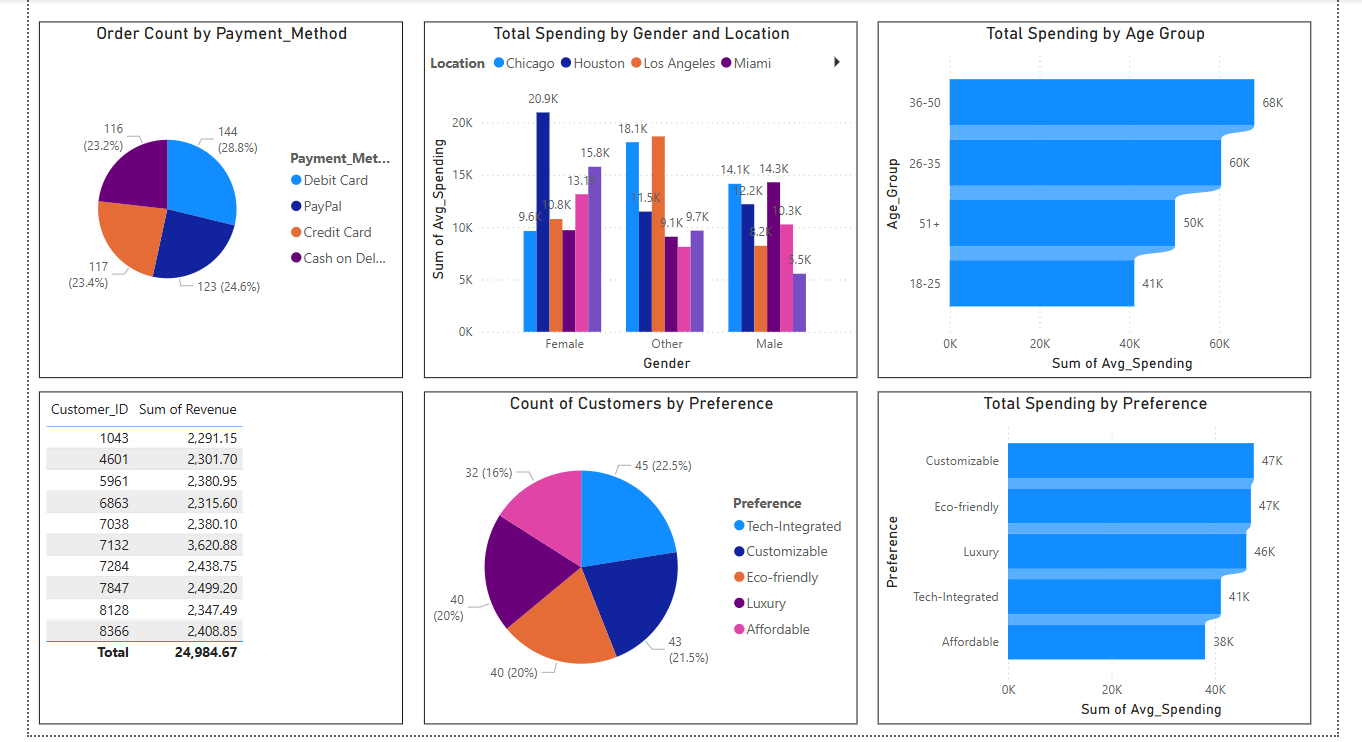

The page's visual inventory and layout, read from the dashboard file:
{"tool":"powerbi","page":{"name":"Page 2","canvas":[1280,720],"ordinal":1},"visuals":[{"type":"pieChart","title":"Order Count by Payment_Method","fields":{"Y":["CountNonNull(Sales_Data.Order_ID)"],"Category":["Sales_Data.Payment_Method"]},"box":[9.8,22,355.8,348.5],"z":0},{"type":"tableEx","fields":{"Values":["Sales_Data.Customer_ID","Sum(Sales_Data.Revenue)"]},"box":[9.8,384,355.8,325.3],"z":1000},{"type":"barChart","title":"Total Spending by Age Group","fields":{"Category":["Customer_Data.Age_Group"],"Y":["Sum(Customer_Data.Avg_Spending)"]},"box":[830.3,22,424.3,348.5],"z":2000},{"type":"clusteredColumnChart","title":"Total Spending by Gender and Location","fields":{"Category":["Customer_Data.Gender"],"Y":["Sum(Customer_Data.Avg_Spending)"],"Series":["Customer_Data.Location"]},"box":[386.4,22,424.3,348.5],"z":3000},{"type":"pieChart","title":"Count of Customers by Preference","fields":{"Y":["CountNonNull(Customer_Data.Customer_ID)"],"Category":["Customer_Data.Preference"]},"box":[386.4,384,424.3,325.3],"z":4000},{"type":"barChart","title":"Total Spending by Preference","fields":{"Y":["Sum(Customer_Data.Avg_Spending)"],"Category":["Customer_Data.Preference"]},"box":[830.3,384,424.3,325.3],"z":5000}]}

Visuals, with their boxes in screenshot pixels (x1, y1, x2, y2):
"Order Count by Payment_Method" pieChart: box=[38, 22, 400, 376]
tableEx - Sales_Data.Customer_ID x Sum(Sales_Data.Revenue): box=[38, 390, 400, 720]
"Total Spending by Age Group" barChart: box=[871, 22, 1302, 376]
"Total Spending by Gender and Location" clusteredColumnChart: box=[421, 22, 852, 376]
"Count of Customers by Preference" pieChart: box=[421, 390, 852, 720]
"Total Spending by Preference" barChart: box=[871, 390, 1302, 720]
